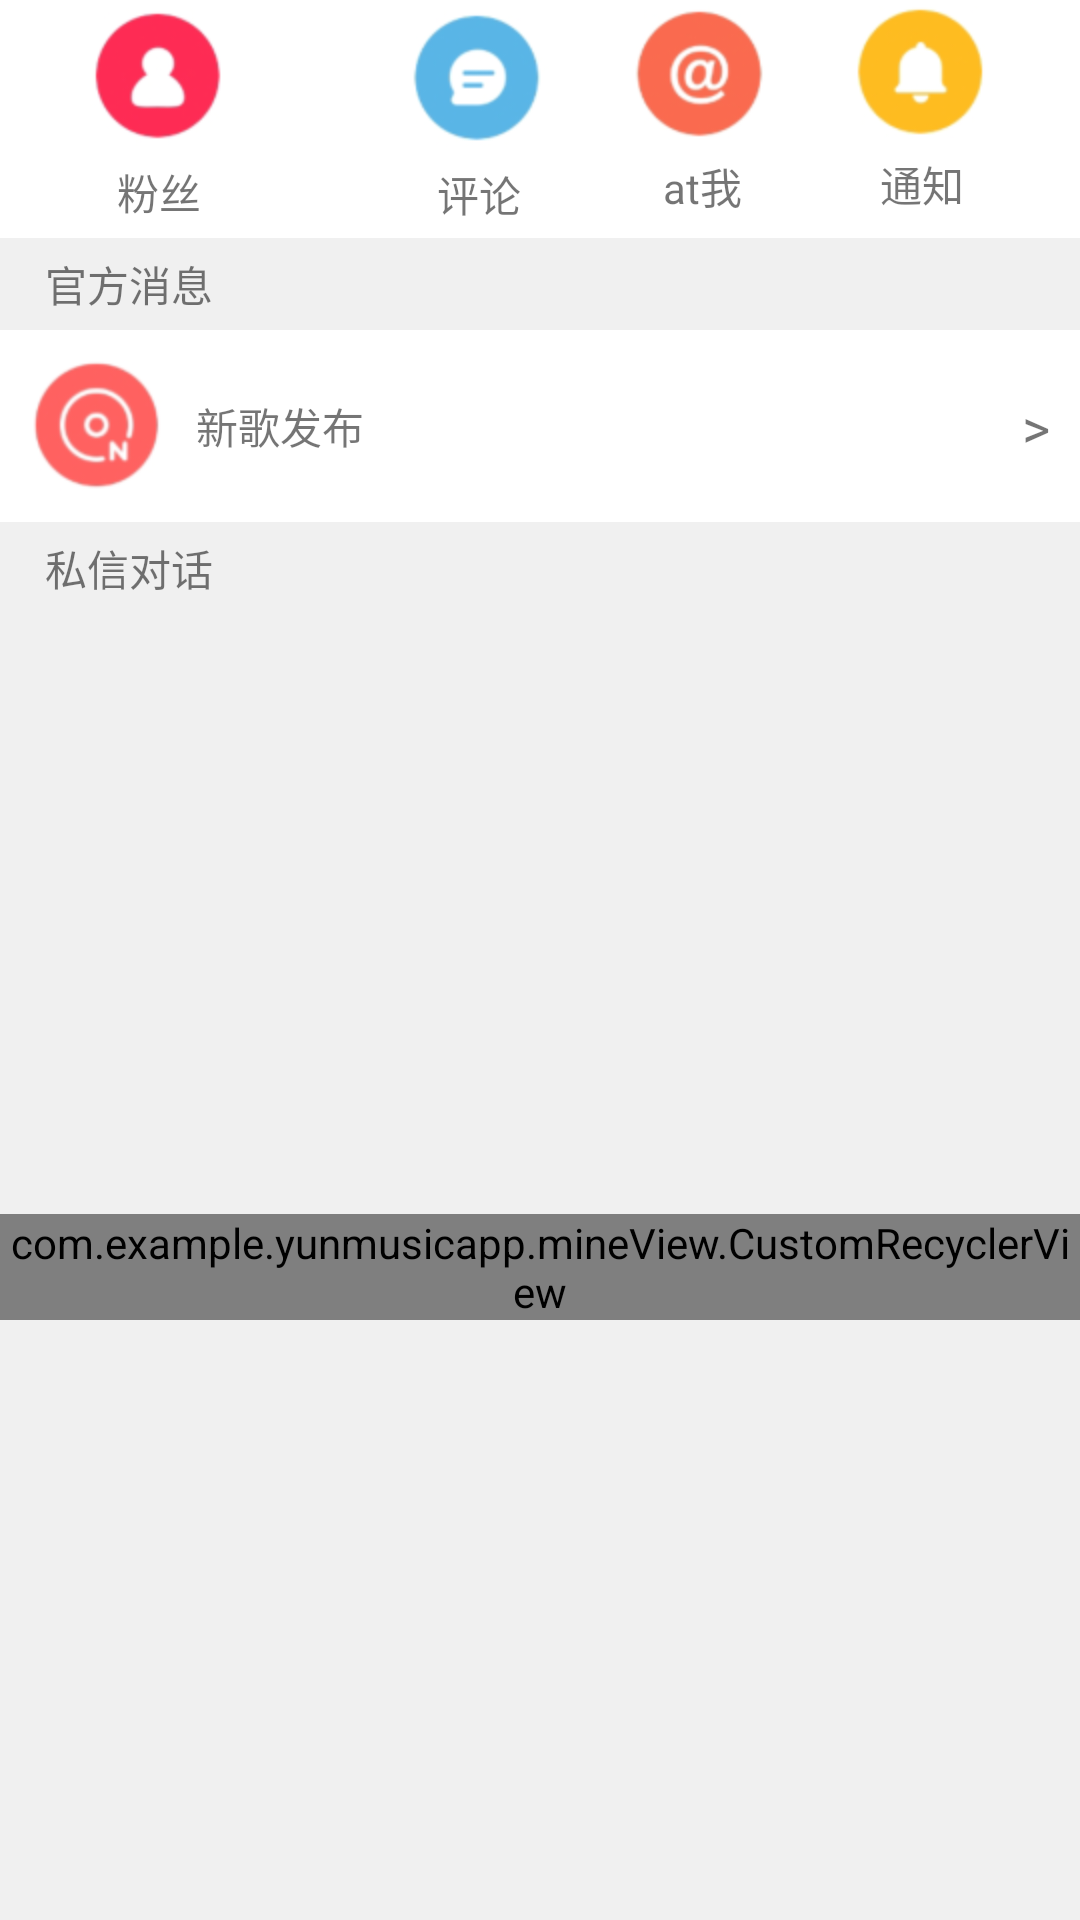

Where icons sit on this 1080*1920 app screen, as (x1, y1, x2, y2):
message newsong: (34, 363, 159, 487)
